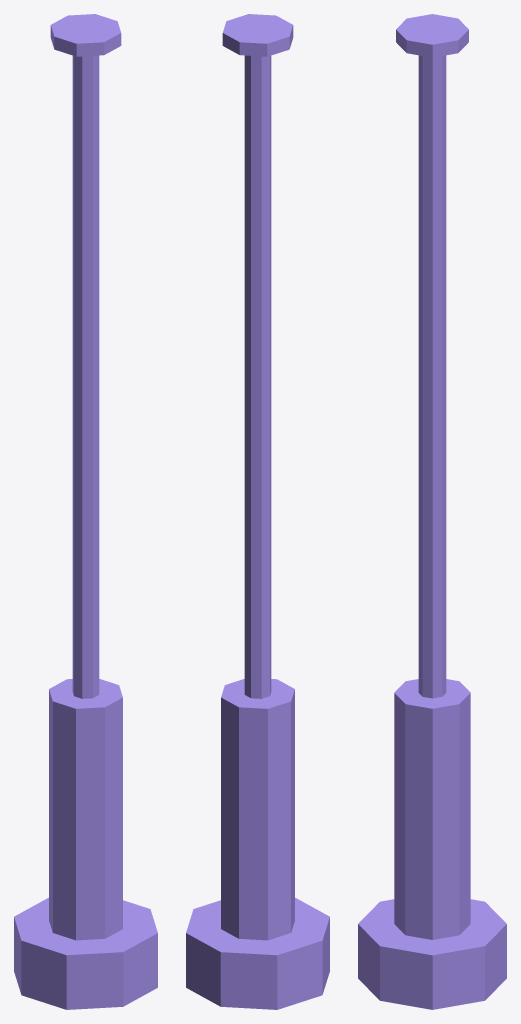
The model's file is signpost_pole_2signs_a01.glb.
The picture shows the model from 3 angles, left to right: view 1: azimuth 30°, elevation 25°; view 2: azimuth 150°, elevation 25°; view 3: azimuth 270°, elevation 25°; orthographic projection.
Parts seen in each view (by area): view 1: signpost 2; view 2: signpost 2; view 3: signpost 2.
Boxes of the visible parts, x1,y1,x2,y2 form: signpost 2: (14,14,157,1009); signpost 2: (186,14,329,1009); signpost 2: (358,14,506,1009).
Size of the model in its own units: 0.9934 by 6.99 by 0.9934.
